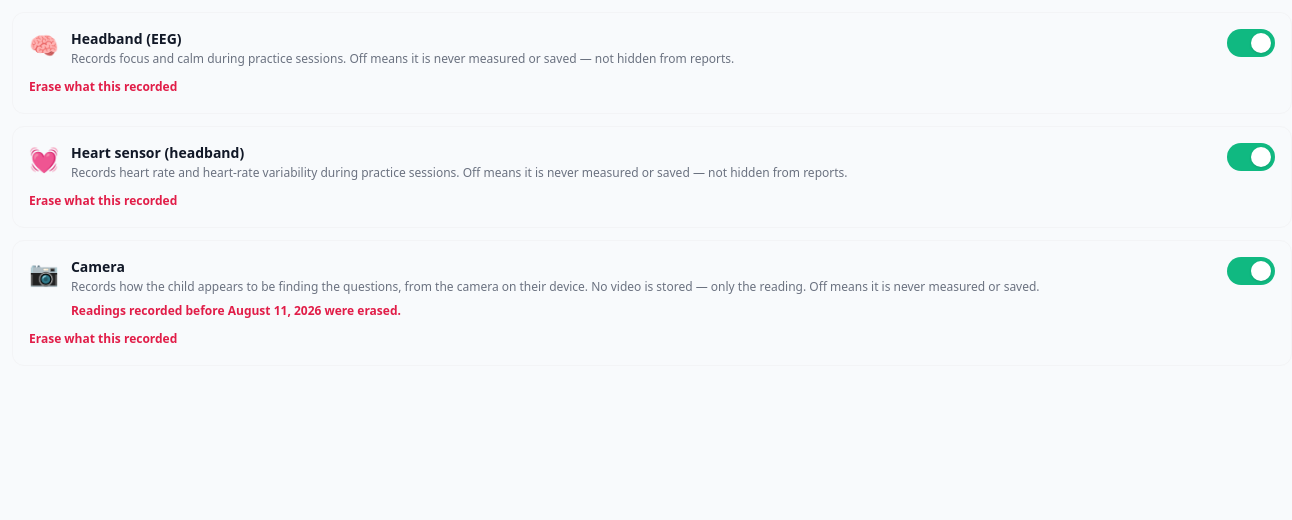
the erasure result banner › clears the note when the parent does something else
The width and height of the screenshot is (1292, 520).
expect the text "Camera" is shown: met, box top-left (71, 257), bottom-right (125, 276)
Click the button "Erase what this recorded" below "Readings recorded before" at coordinates (103, 339), box top-left (29, 331), bottom-right (177, 347)
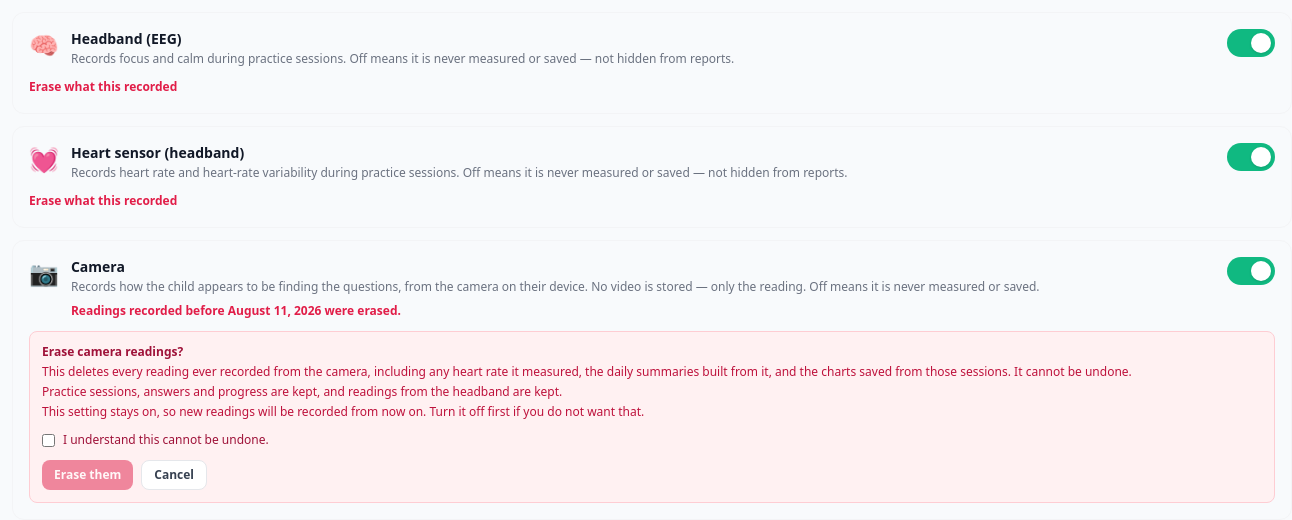
Click the checkbox at coordinates (48, 440), box top-left (42, 434), bottom-right (55, 447)
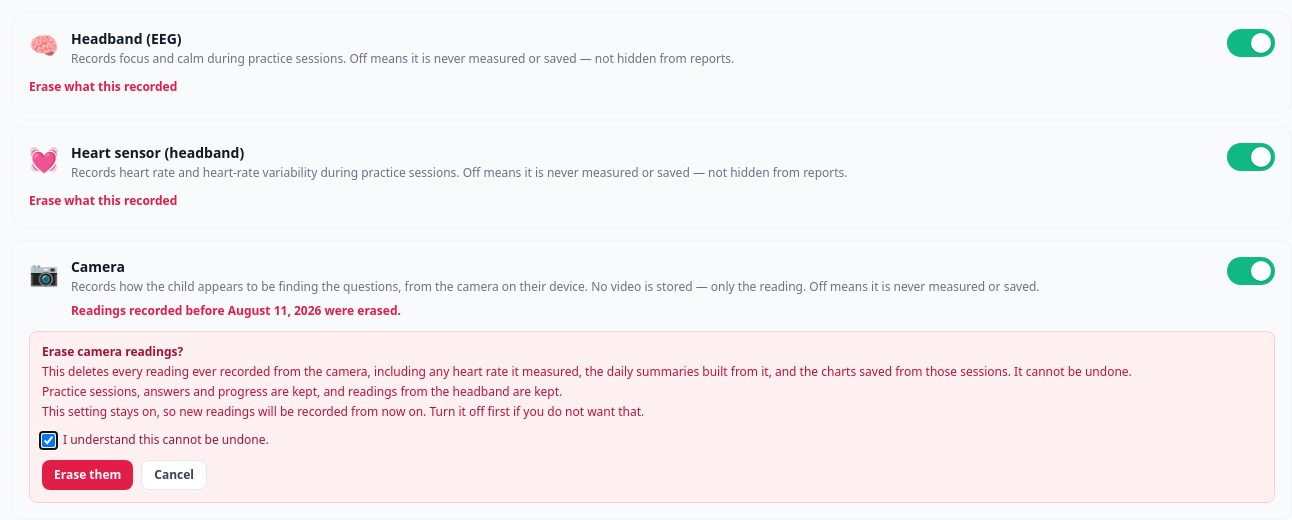
Click the button "Erase them" at coordinates (88, 475), box top-left (42, 460), bottom-right (133, 490)
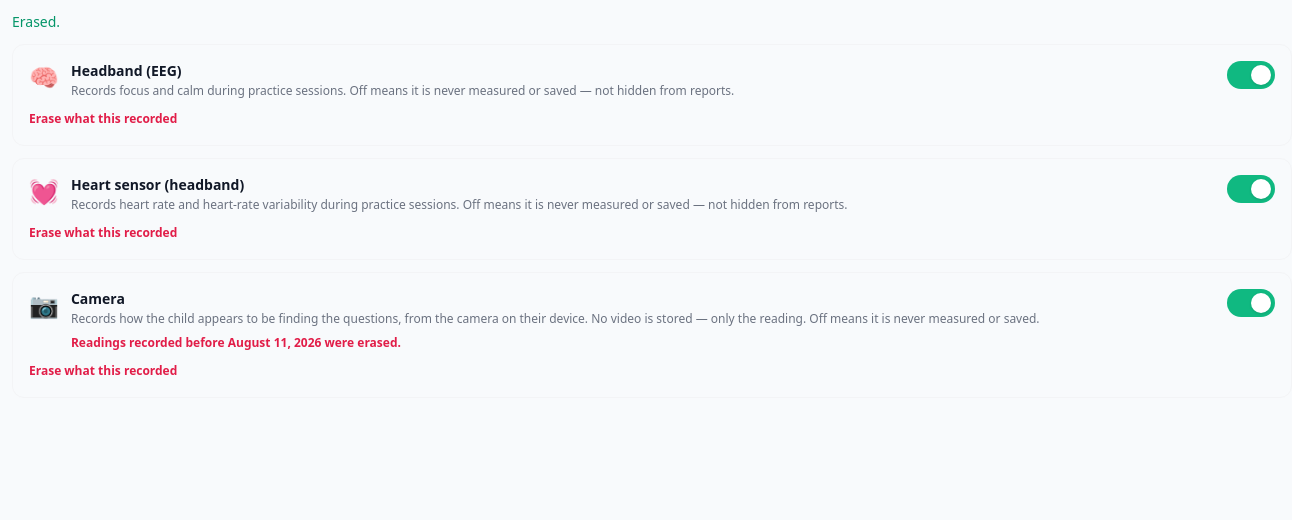
expect the text "Erased." is shown: met, box top-left (12, 12), bottom-right (60, 31)
Click the switch named "Headband (EEG)" at coordinates (1251, 75), box top-left (1227, 61), bottom-right (1275, 89)
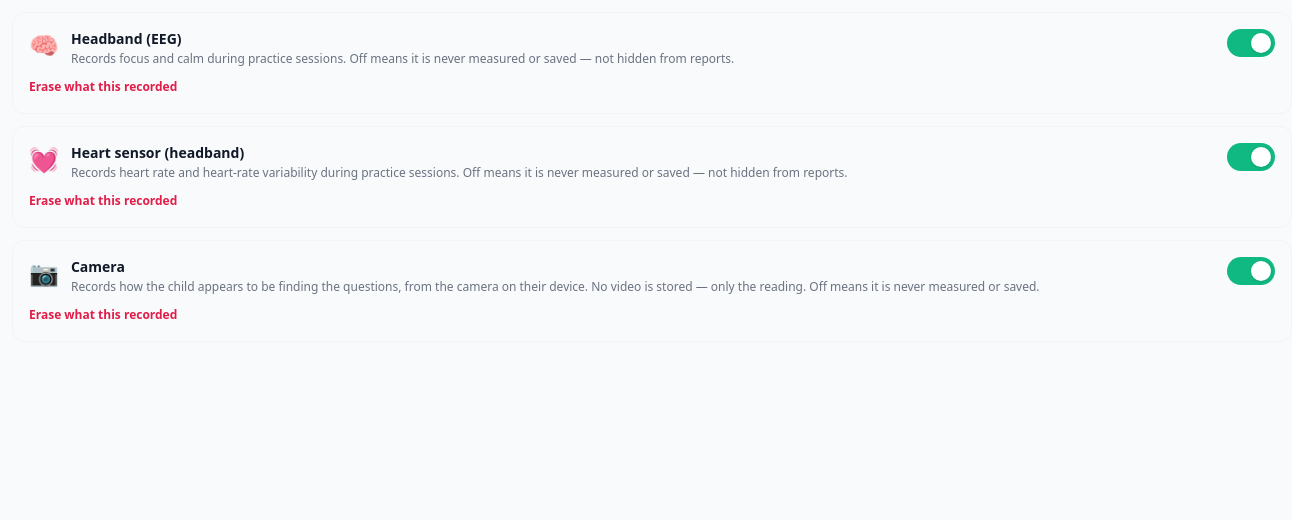
expect the text "Erased." is gone: met
